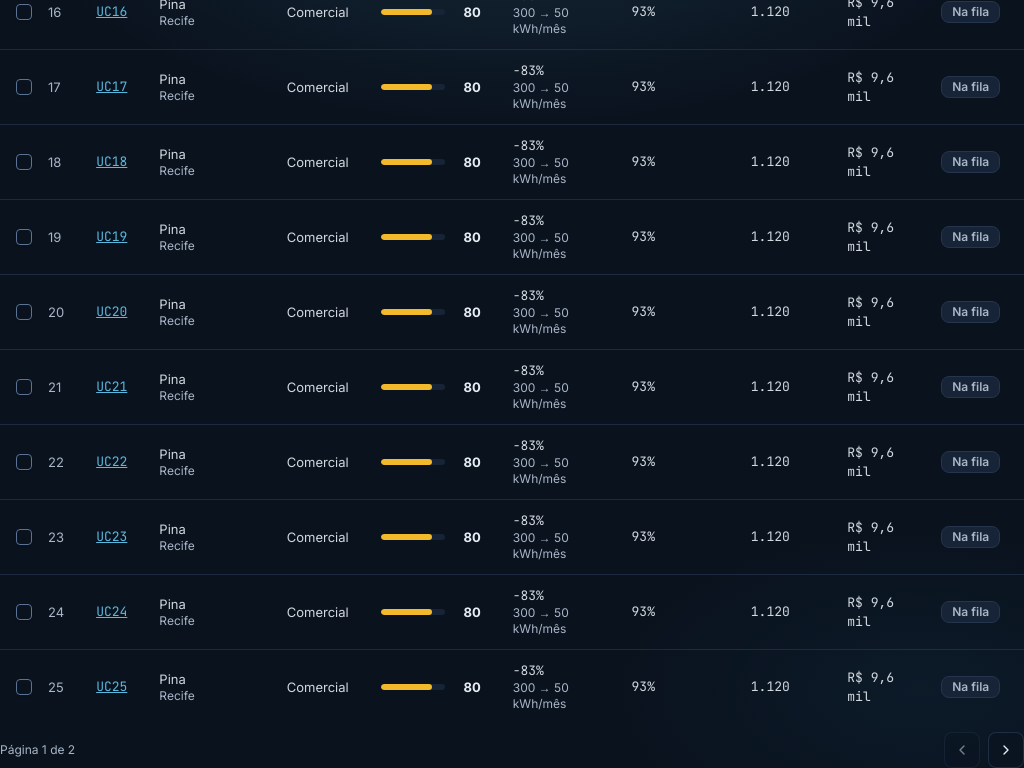
Scenario: PrioritizedQueueTable › desmarca pelo cabeçalho só a página visível, preservando as outras páginas
The image size is (1024, 768).
(page scrolled)
Click the button named "Próxima página". click: (1006, 750)
box: [988,732,1023,767]
(page scrolled)
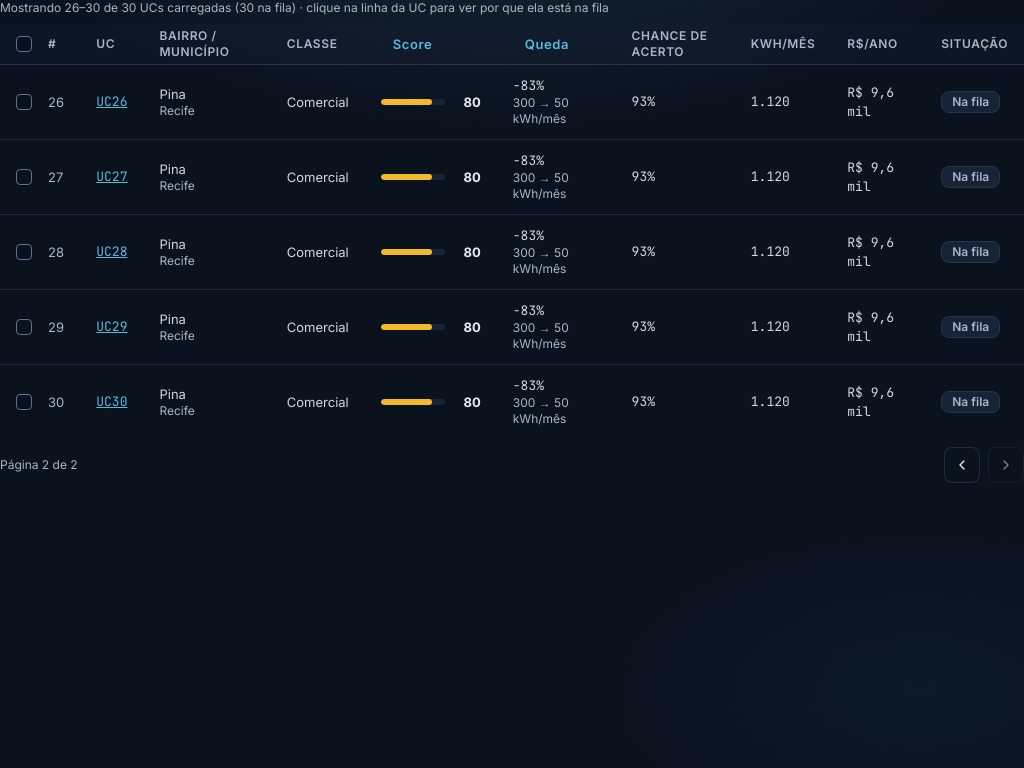
Click the checkbox named "Selecionar as UCs livres da página". click: (24, 44)
box: [16,36,32,52]
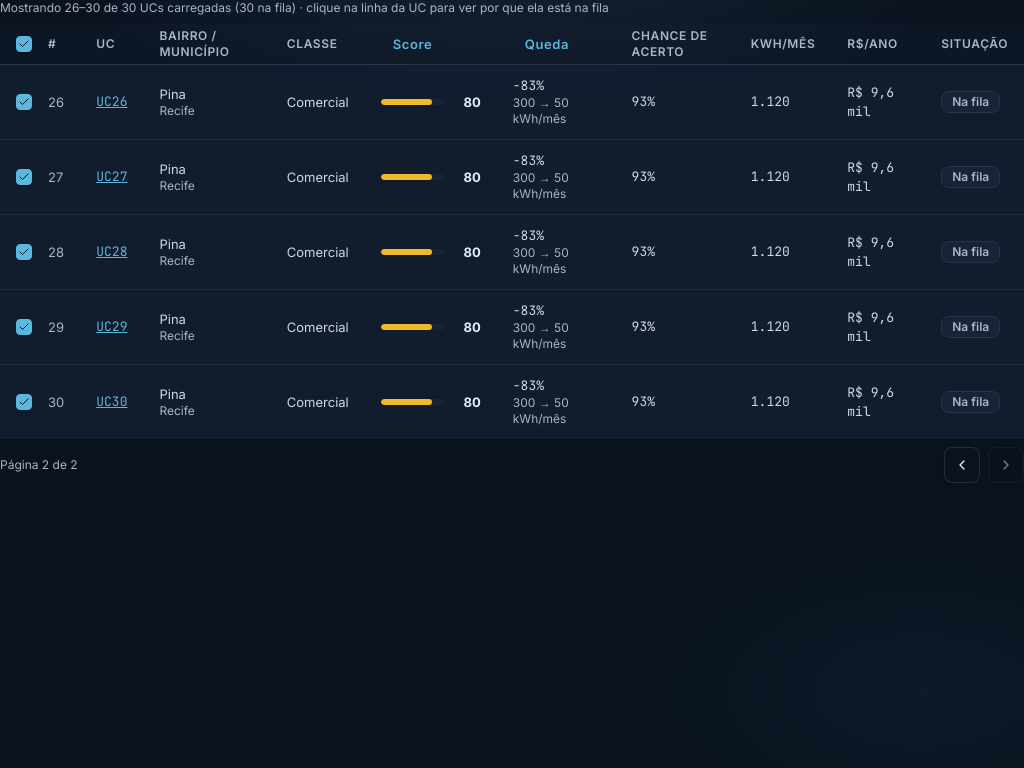
Click the button named "Página anterior". click: (962, 464)
box: [944,446,980,482]
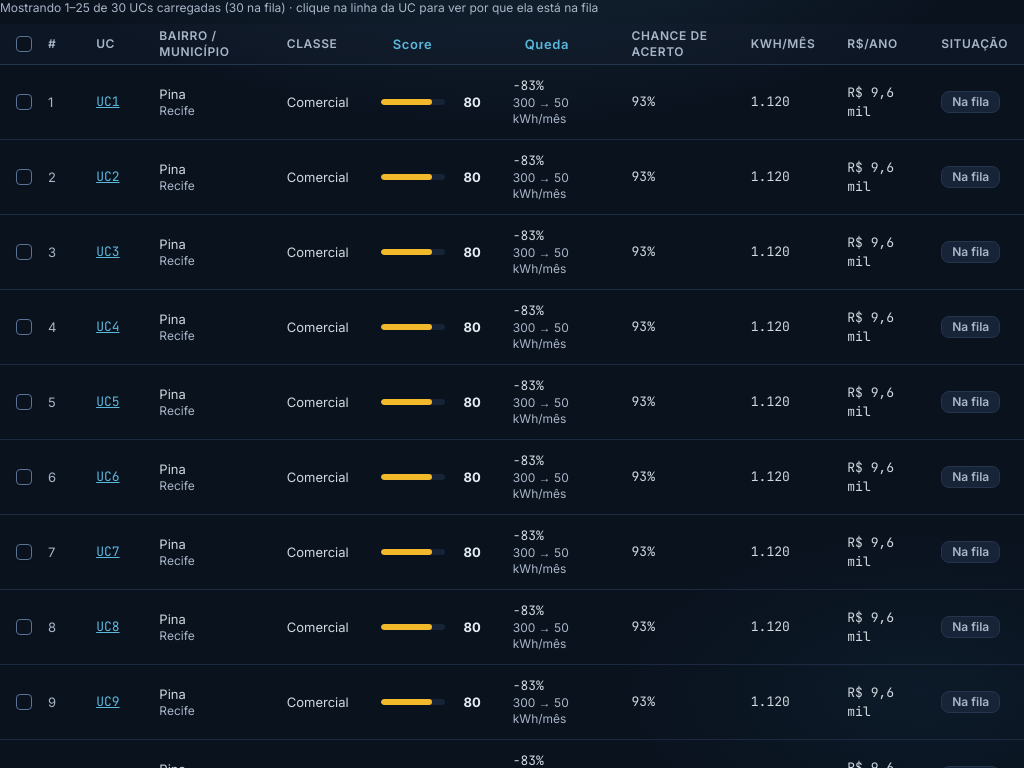
Click the checkbox named "Selecionar as UCs livres da página". click: (24, 44)
box: [16,36,32,52]
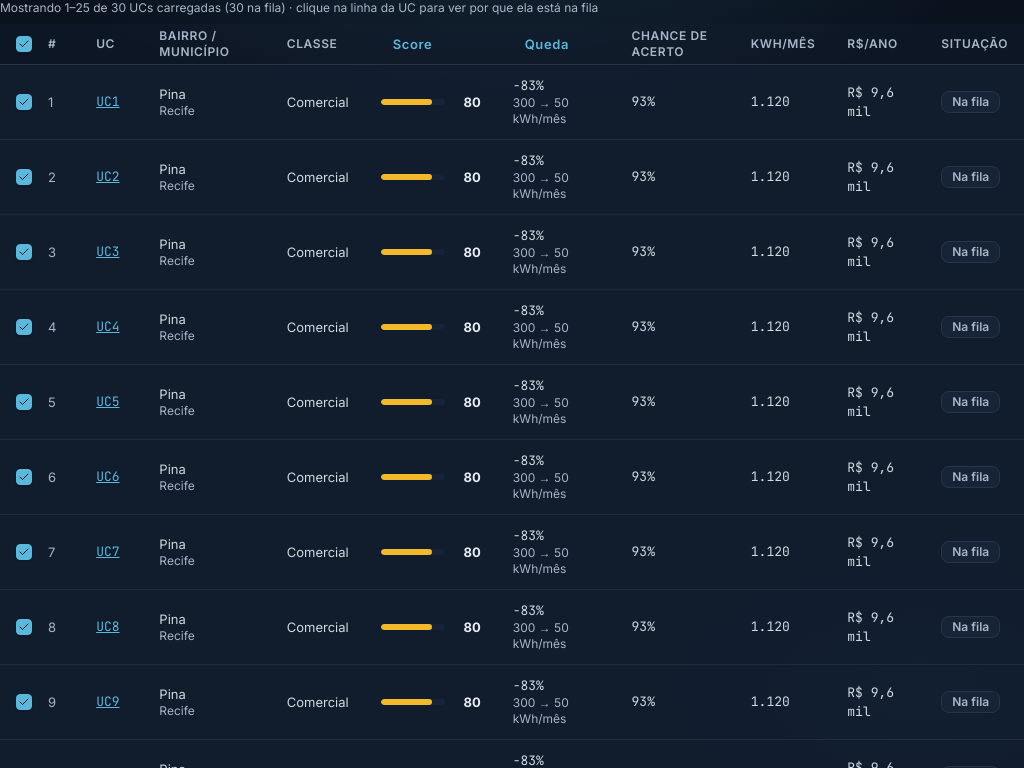
Click the checkbox named "Selecionar as UCs livres da página". click: (24, 44)
box: [16,36,32,52]
(page scrolled)
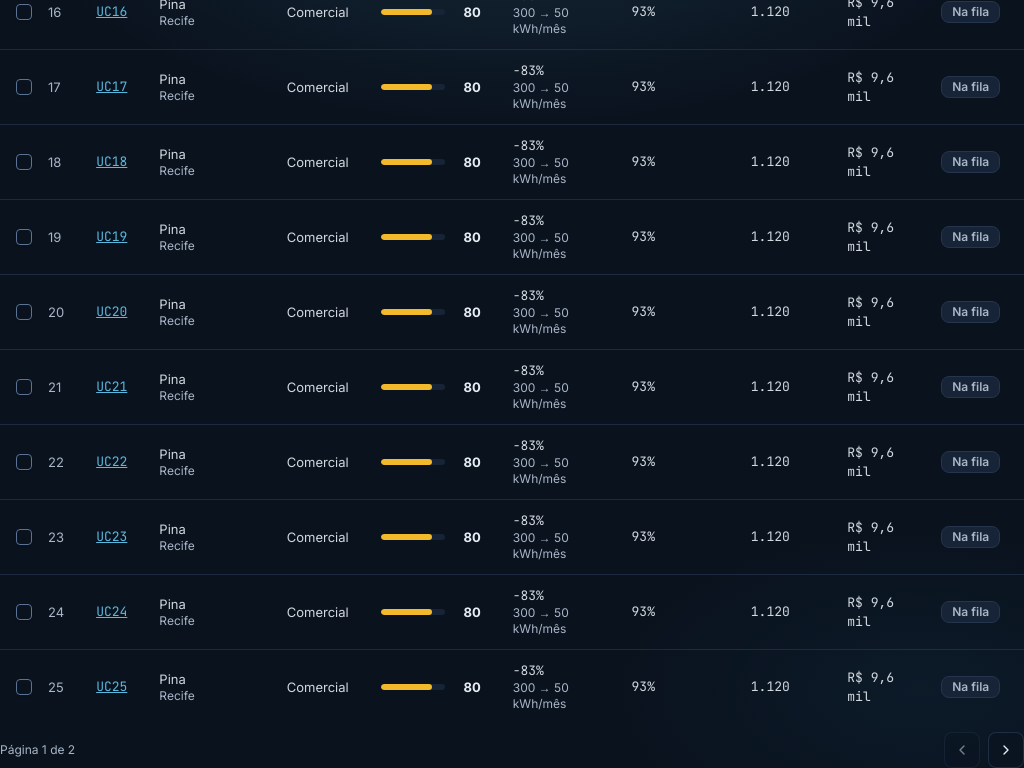
Click the button named "Próxima página". click: (1006, 750)
box: [988,732,1023,767]
(page scrolled)
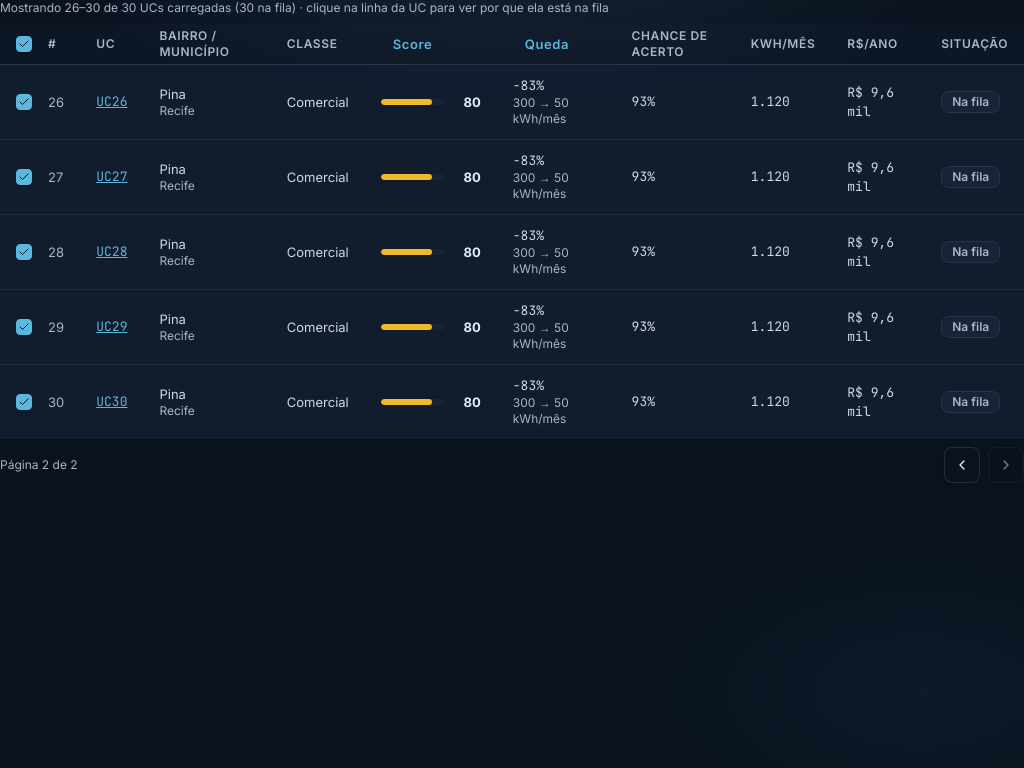
Expected: the checkbox named "Selecionar UC26" is checked, [16,94,32,110]
